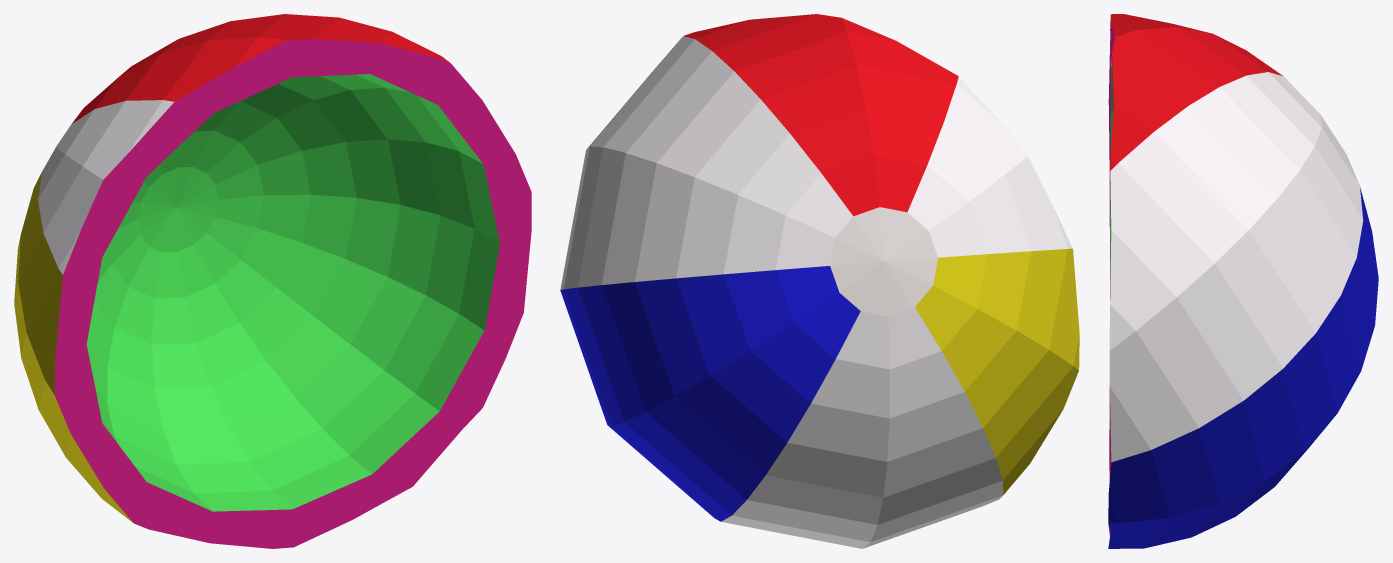
Rendered from seaball1.fbx.
3 renders of one model, left to right at view 1: azimuth 30°, elevation 25°; view 2: azimuth 150°, elevation 25°; view 3: azimuth 270°, elevation 25°, orthographic. The views are drawn at different scales.
Parts seen in each view (by area): view 1: Sphere.001; view 2: Sphere.001; view 3: Sphere.001.
Part boxes in pixels (left/top/right/bottom): Sphere.001: left=14, top=14, right=531, bottom=548; Sphere.001: left=560, top=14, right=1079, bottom=548; Sphere.001: left=1108, top=14, right=1378, bottom=548.
Bounding box in the file's own units: 197 × 199 × 101.
